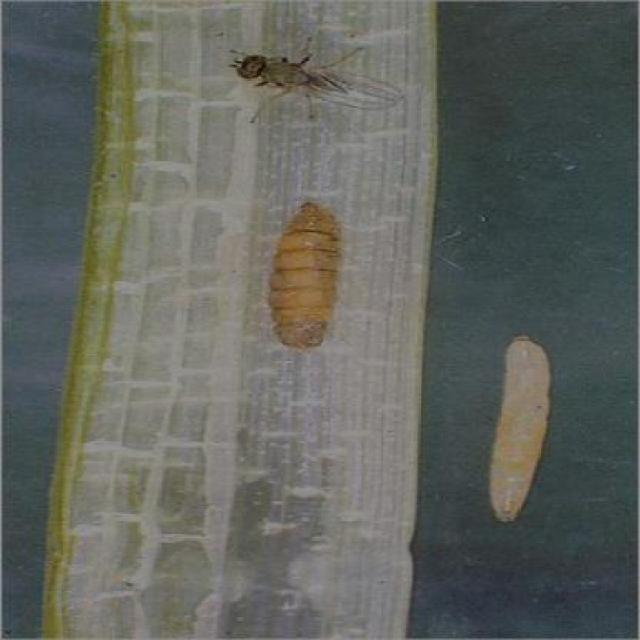whorl-maggot: (477, 325, 561, 530), (255, 190, 356, 352)
